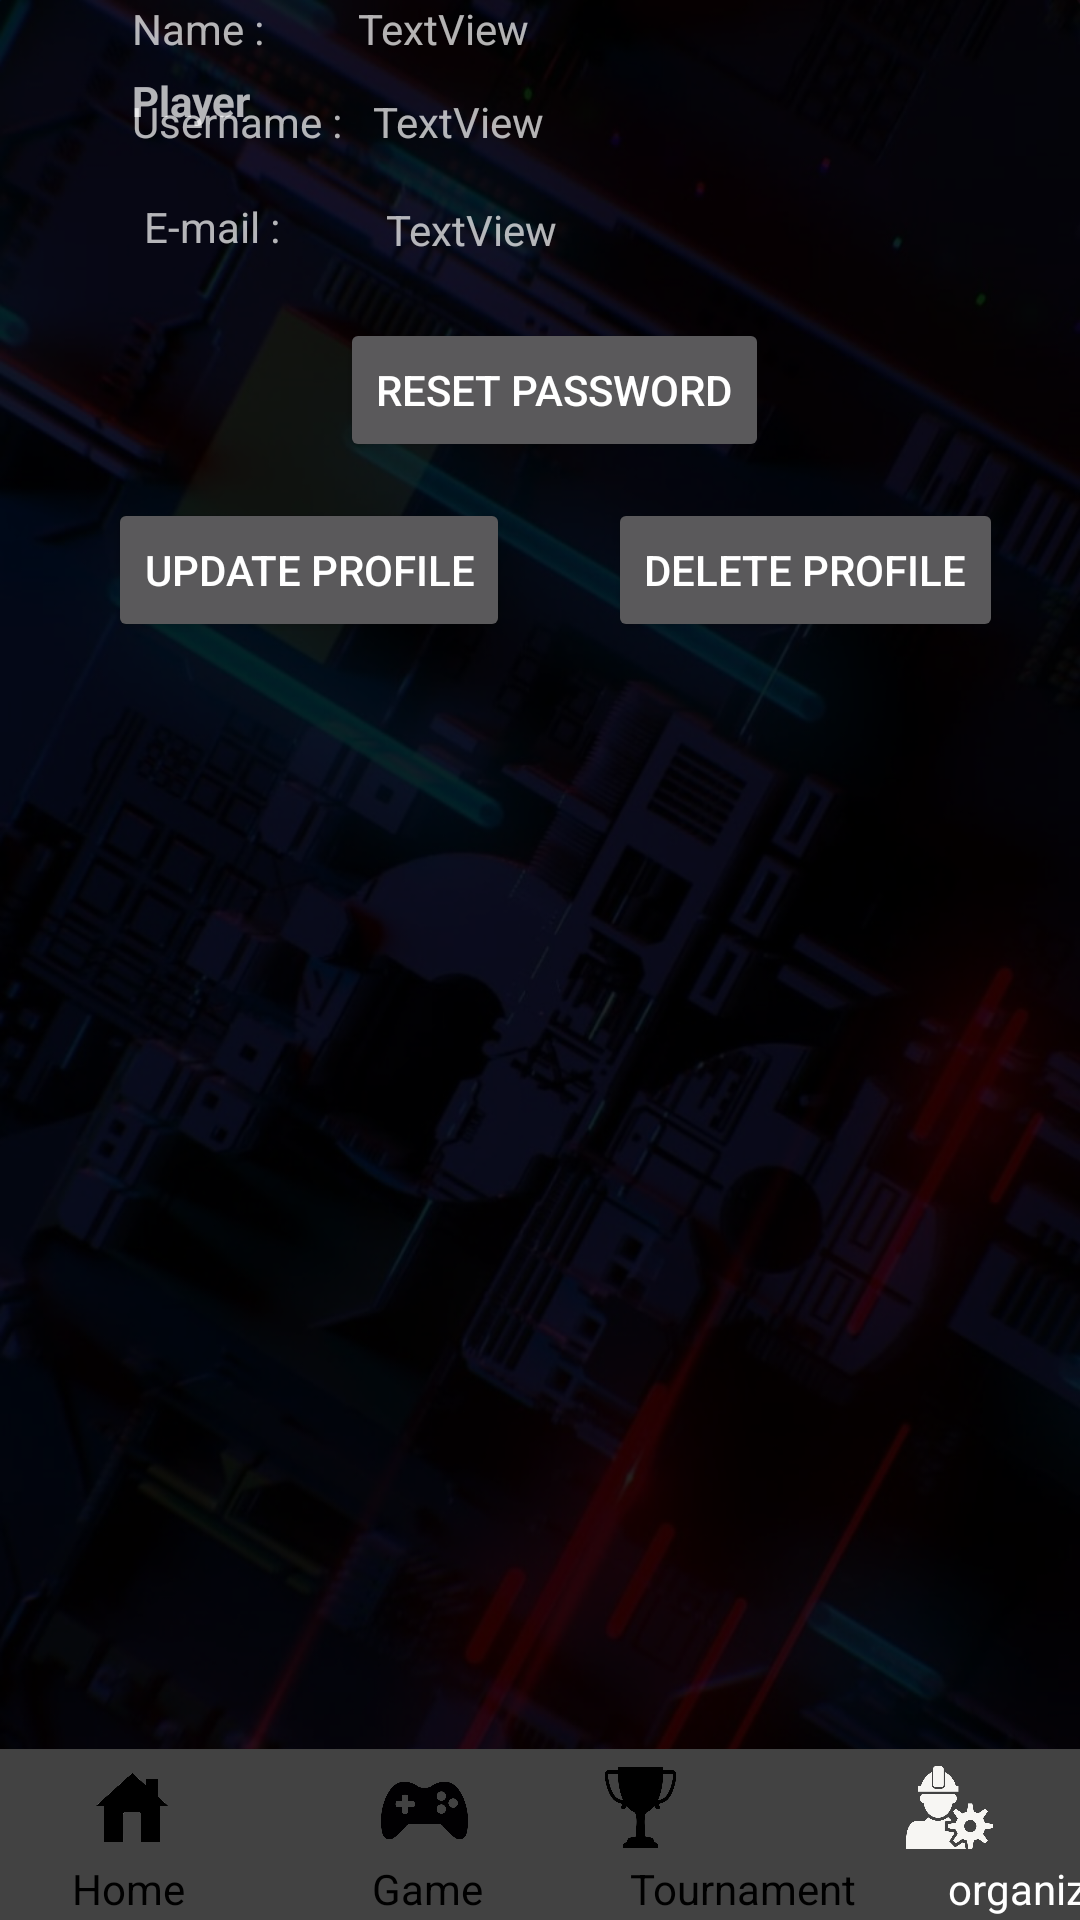

Icons on this 1080 × 1920 Android screen, each with the point to tap as (x=x, y=y):
console: (x=424, y=1810)
cup: (x=640, y=1807)
